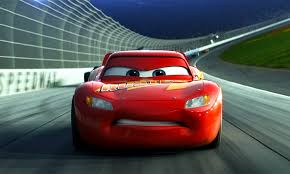mcqueen: (70, 49, 224, 155)
